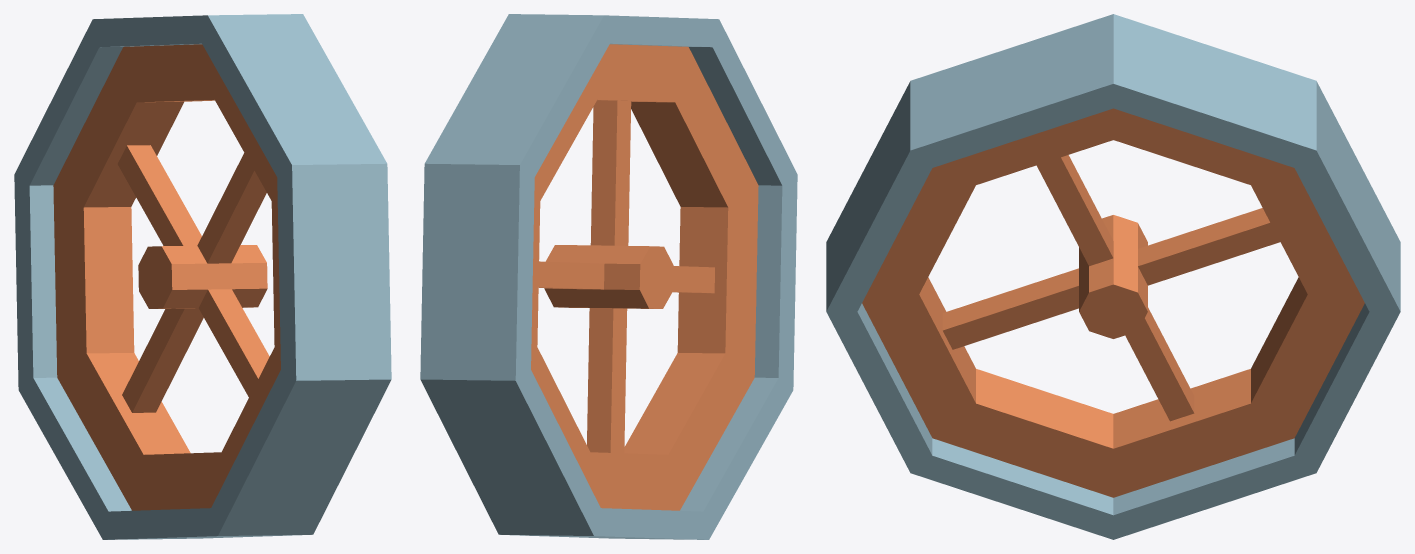
The model's file is wheel.obj.
3 renders of one model, left to right at view 1: azimuth 30°, elevation 25°; view 2: azimuth 150°, elevation 25°; view 3: azimuth 270°, elevation 25°, orthographic.
Parts seen in each view (by area): view 1: wheel; view 2: wheel; view 3: wheel.
Boxes of the visible parts, box(x1,y1,x2,y2) form: wheel: box(14, 14, 391, 539); wheel: box(420, 14, 797, 539); wheel: box(826, 14, 1400, 539).
Bounding box in the file's own units: 0.2076 × 0.5162 × 0.5063.
